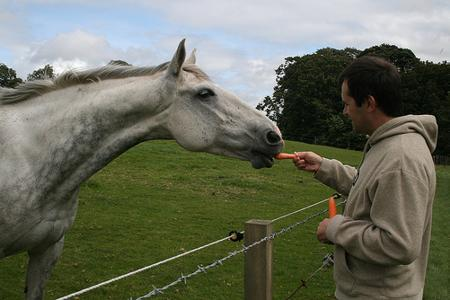person: (293, 57, 435, 300)
